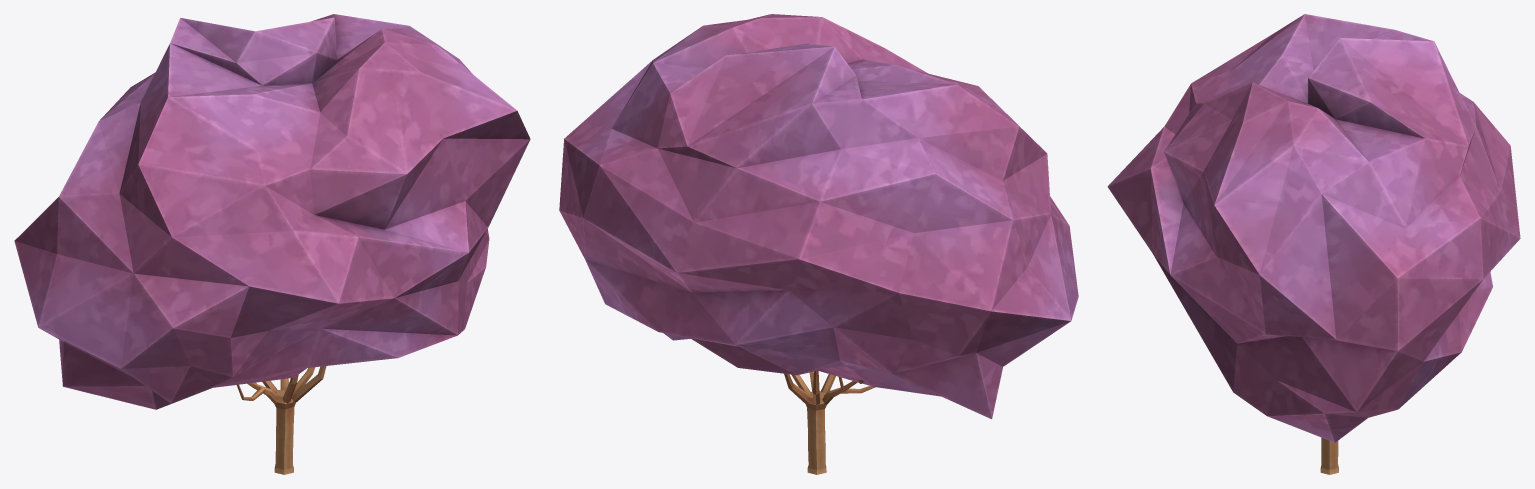
File: cerezo.glb
3 views of the same model, side by side, from view 1: azimuth 30°, elevation 25°; view 2: azimuth 150°, elevation 25°; view 3: azimuth 270°, elevation 25° (orthographic). The views are drawn at different scales.
Visible parts, largest first — view 1: CherryTree_mesh; view 2: CherryTree_mesh; view 3: CherryTree_mesh.
Boxes of the visible parts, x1,y1,x2,y2 form: CherryTree_mesh: (14,14,530,474); CherryTree_mesh: (559,14,1078,474); CherryTree_mesh: (1107,14,1520,474).
Size of the model in its own units: 14.98 by 13.18 by 11.71.
Materials: 1 (1 with a texture image).
